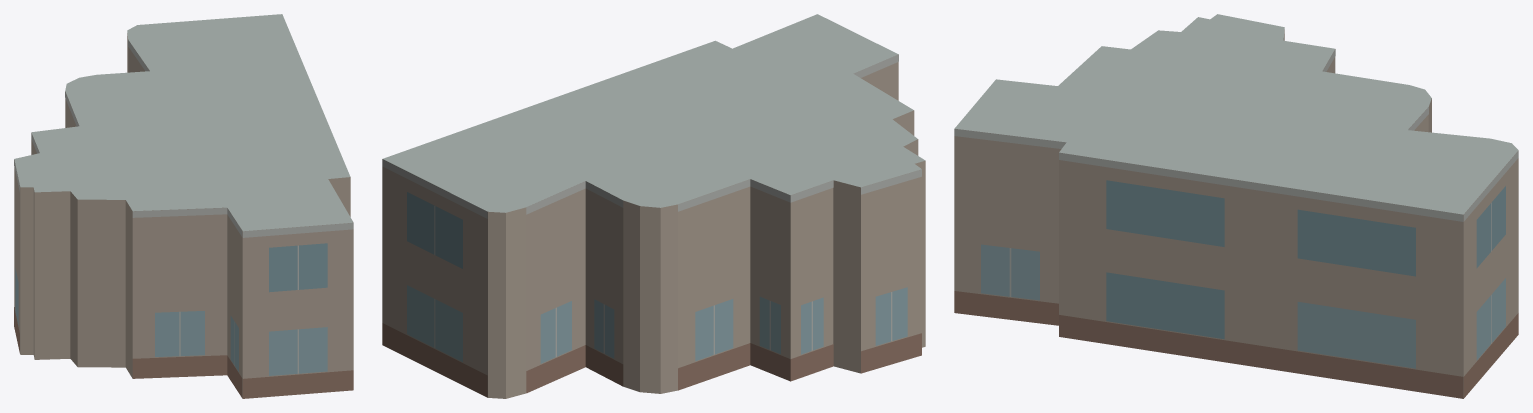
Rendered from survey-upis-32842070.glb.
The picture shows the model from 3 angles, left to right: view 1: azimuth 30°, elevation 25°; view 2: azimuth 150°, elevation 25°; view 3: azimuth 270°, elevation 25°; orthographic projection. The views are drawn at different scales.
Parts seen in each view (by area): view 1: survey-upis-32842070.tmp; view 2: survey-upis-32842070.tmp; view 3: survey-upis-32842070.tmp.
Boxes of the visible parts, <box> form: survey-upis-32842070.tmp: <box>14,14,353,398</box>; survey-upis-32842070.tmp: <box>382,14,925,398</box>; survey-upis-32842070.tmp: <box>954,14,1518,398</box>.
Size of the model in its own units: 14.25 by 6.1 by 16.94.
